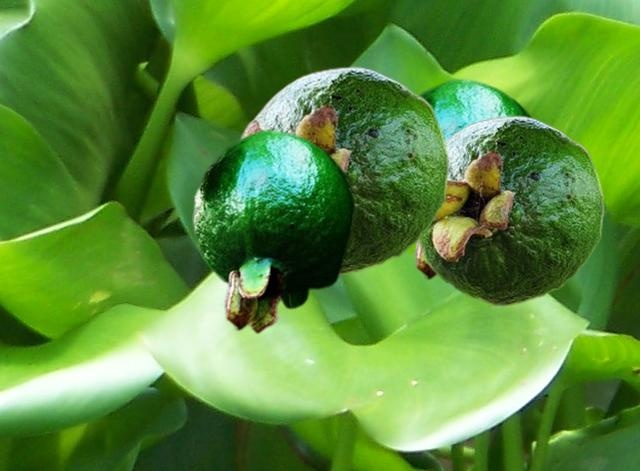guava: (237, 66, 449, 275), (417, 115, 604, 306), (192, 128, 355, 333), (410, 77, 532, 282)
